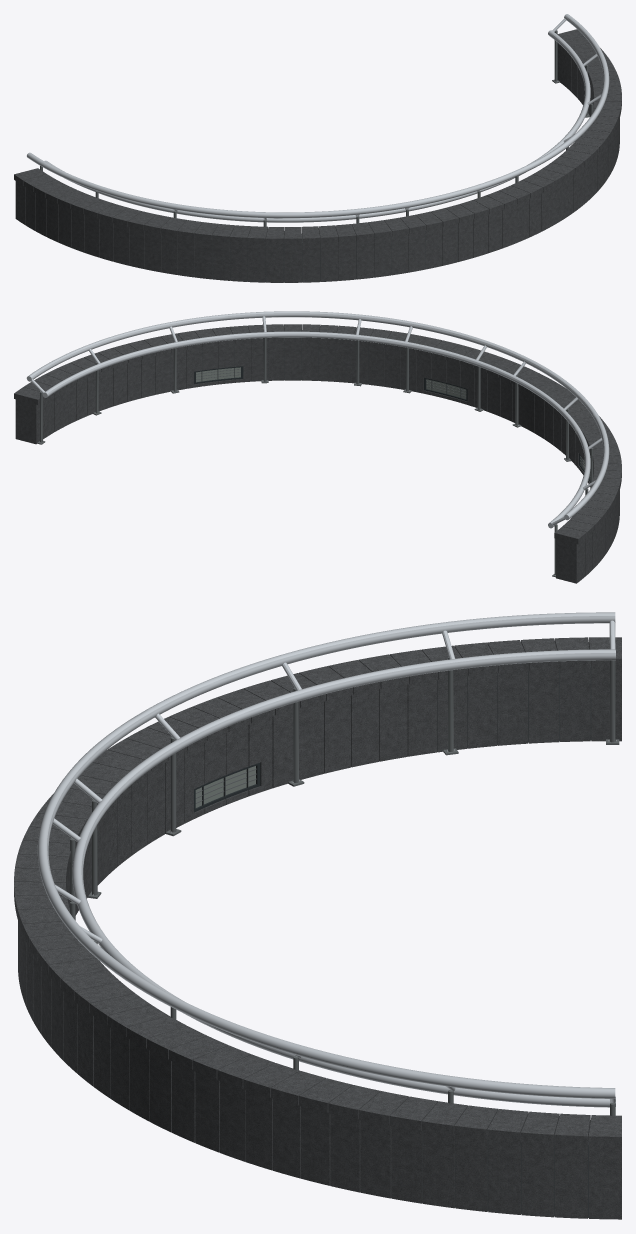
File: hachiko_semicircle_v002_GRADE_FITTED_DISABLED-9G0NQgR1.glb
3 views of the same model, one above another, from view 1: azimuth 30°, elevation 25°; view 2: azimuth 150°, elevation 25°; view 3: azimuth 270°, elevation 25° (orthographic). The views are drawn at different scales.
Parts seen in each view (by area): view 1: semicircle__speckled_granite, semicircle__brushed_stainless, semicircle__support_dark_metal, semicircle__mortar_dark; view 2: semicircle__speckled_granite, semicircle__brushed_stainless, semicircle__support_dark_metal, semicircle__fixture_glass_nonemissive, semicircle__fixture_frame, semicircle__mortar_dark; view 3: semicircle__speckled_granite, semicircle__brushed_stainless, semicircle__support_dark_metal, semicircle__mortar_dark, semicircle__fixture_glass_nonemissive.
Boxes of the visible parts, x1,y1,x2,y2 form: semicircle__speckled_granite: (14, 29, 621, 282); semicircle__brushed_stainless: (27, 14, 609, 222); semicircle__support_dark_metal: (40, 30, 593, 226); semicircle__mortar_dark: (212, 224, 457, 281); semicircle__speckled_granite: (14, 324, 621, 583); semicircle__brushed_stainless: (26, 311, 609, 575); semicircle__support_dark_metal: (37, 333, 593, 577); semicircle__fixture_glass_nonemissive: (196, 367, 590, 478); semicircle__fixture_frame: (194, 366, 590, 482); semicircle__mortar_dark: (170, 338, 582, 467); semicircle__speckled_granite: (14, 637, 621, 1219); semicircle__brushed_stainless: (37, 612, 616, 1107); semicircle__support_dark_metal: (70, 657, 619, 1115); semicircle__mortar_dark: (202, 664, 591, 1217); semicircle__fixture_glass_nonemissive: (195, 766, 255, 807).
Bounding box in the file's own units: 7.73 × 0.9562 × 3.86.
6 materials, 1 textured.
